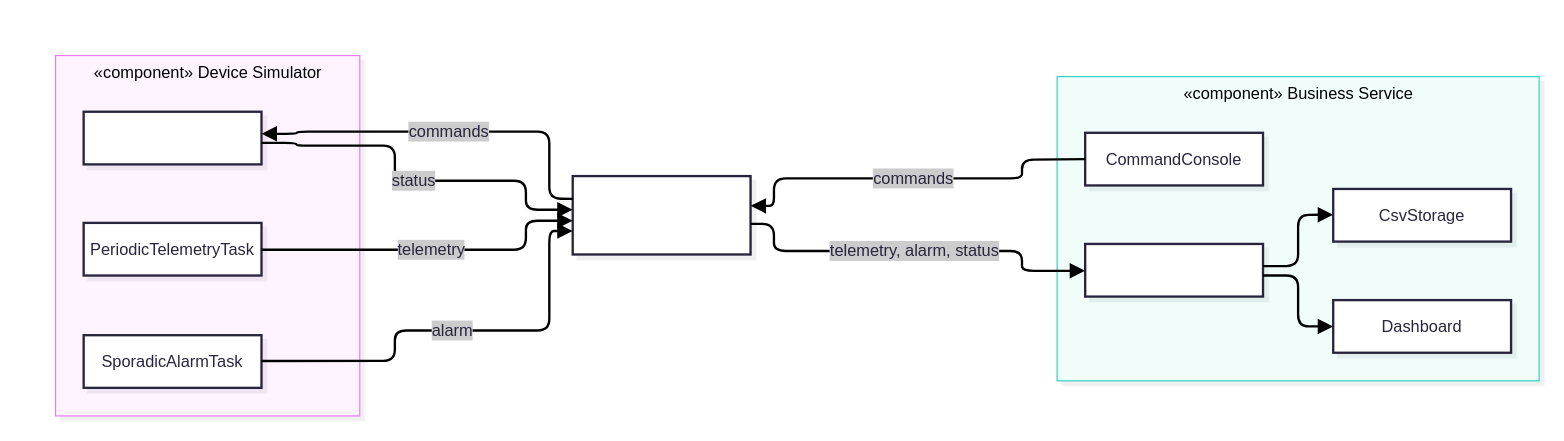
The diagram is 1564 pixels wide and 441 high, and some of its shapes have lost their labels. Here are the shapes that lost their labels. From the top down, the centre of each, then its label:
At (x=174, y=140): "AperiodicCommandTask".
At (x=663, y=217): "«component» MQTT Broker".
At (x=1175, y=272): "MessageProcessor".
